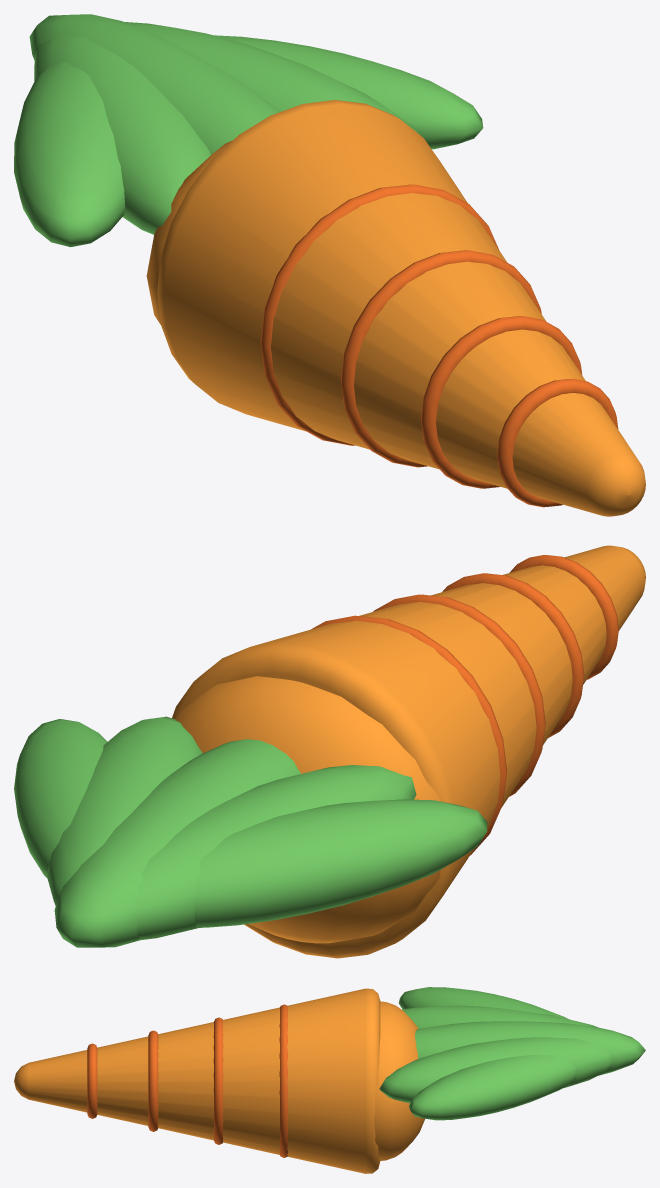
File: CarrotRaw.fbx
The picture shows the model from 3 angles, top to bottom: view 1: azimuth 30°, elevation 25°; view 2: azimuth 150°, elevation 25°; view 3: azimuth 270°, elevation 25°; orthographic projection. The views are drawn at different scales.
Visible parts, largest first — view 1: MAT_Carrot Geometry, MAT_Leaf Geometry, MAT_CarrotGroove Geometry; view 2: MAT_Leaf Geometry, MAT_Carrot Geometry, MAT_CarrotGroove Geometry; view 3: MAT_Carrot Geometry, MAT_Leaf Geometry, MAT_CarrotGroove Geometry.
Part boxes in pixels (x1,y1,x2,y2): MAT_Carrot Geometry: (146, 100, 645, 516); MAT_Leaf Geometry: (14, 14, 483, 247); MAT_CarrotGroove Geometry: (260, 184, 618, 507); MAT_Leaf Geometry: (14, 716, 487, 947); MAT_Carrot Geometry: (172, 545, 645, 958); MAT_CarrotGroove Geometry: (311, 555, 618, 855); MAT_Carrot Geometry: (14, 988, 424, 1173); MAT_Leaf Geometry: (379, 987, 645, 1120); MAT_CarrotGroove Geometry: (87, 1004, 288, 1157).
Size of the model in its own units: 64.24 by 42.5 by 145.
